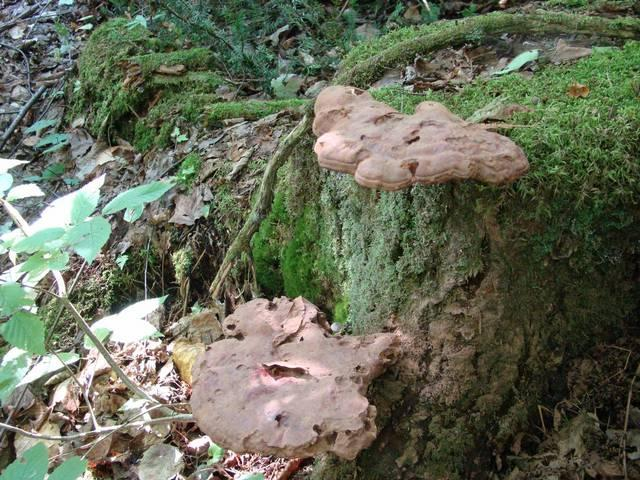poisonous_mushroom: (187, 293, 402, 461), (310, 83, 529, 192)
